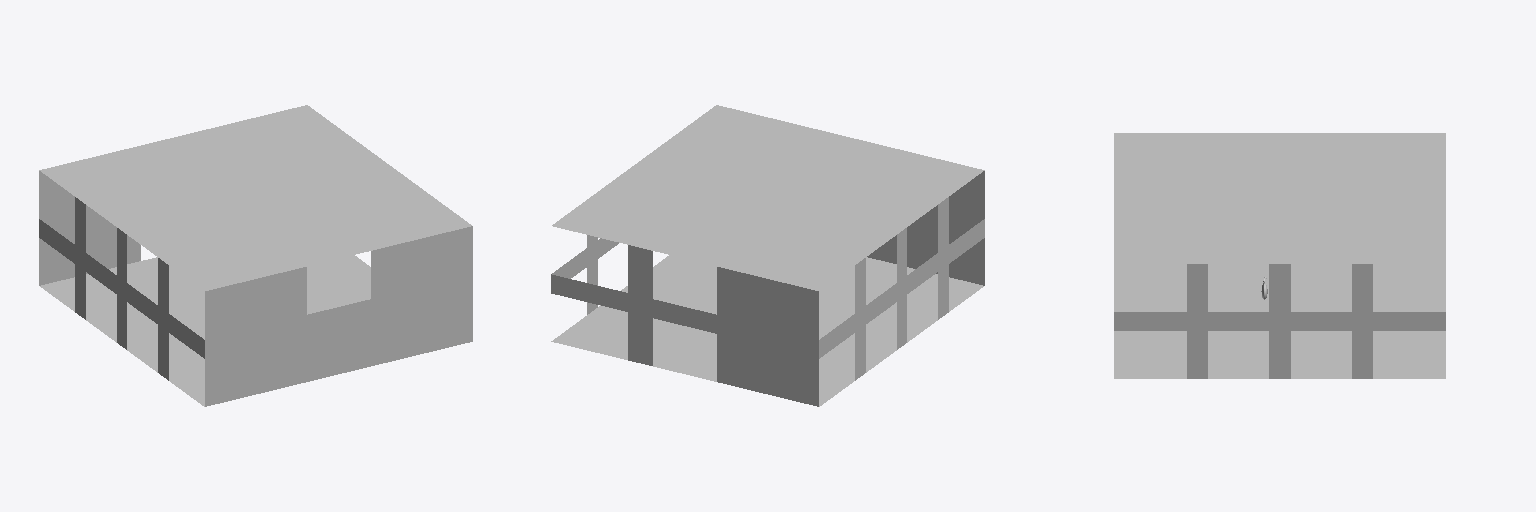
The model's file is Pocket_Clock.obj.
3 renders of one model, left to right at view 1: azimuth 30°, elevation 25°; view 2: azimuth 150°, elevation 25°; view 3: azimuth 270°, elevation 25°, orthographic.
Parts seen in each view (by area): view 1: Shadow_Cube_Cube; view 2: Shadow_Cube_Cube; view 3: Shadow_Cube_Cube.
Part boxes in pixels (bbox=[...]): Shadow_Cube_Cube: bbox=[39, 105, 472, 406]; Shadow_Cube_Cube: bbox=[551, 105, 984, 406]; Shadow_Cube_Cube: bbox=[1114, 133, 1445, 378].
Size of the model in its own units: 2.38 by 0.9803 by 2.54.